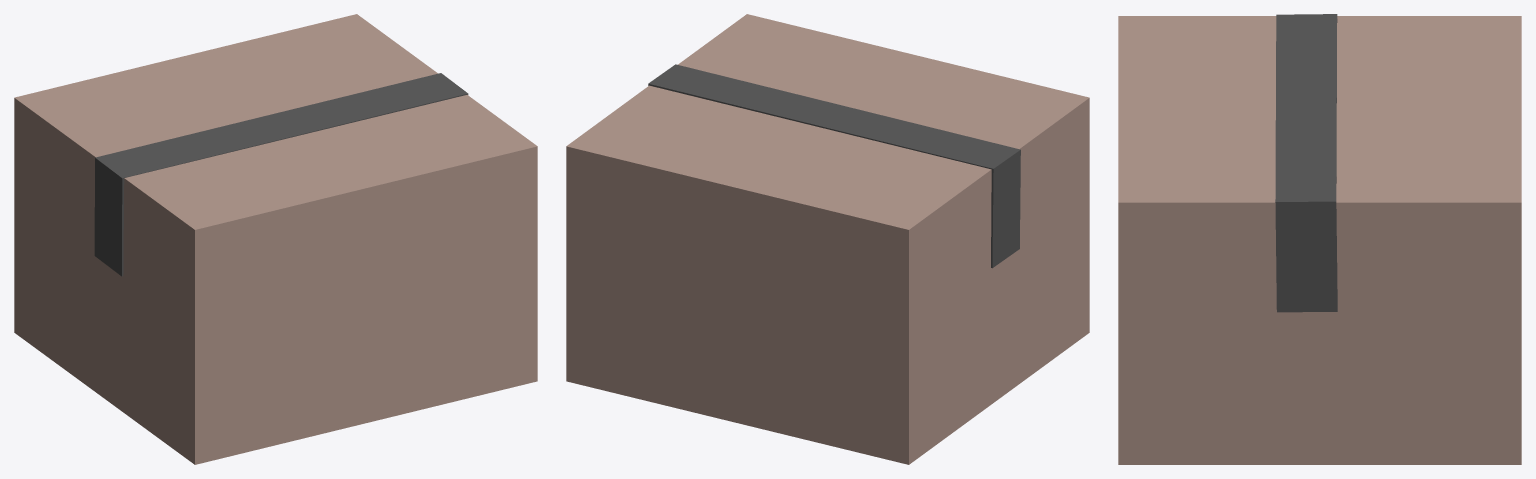
The model's file is box-by-gabriele-romagnoli-ahKiiFpHyB2.glb.
The picture shows the model from 3 angles, left to right: view 1: azimuth 30°, elevation 25°; view 2: azimuth 150°, elevation 25°; view 3: azimuth 270°, elevation 25°; orthographic projection. The views are drawn at different scales.
Visible parts, largest first — view 1: group189322329, group1712932503; view 2: group189322329, group1712932503; view 3: group189322329, group1712932503.
Part boxes in pixels (x1,y1,x2,y2): group189322329: (14,14,537,464); group1712932503: (94,73,468,276); group189322329: (566,14,1089,464); group1712932503: (648,64,1020,268); group189322329: (1118,16,1521,464); group1712932503: (1275,14,1337,312).
Bounding box in the file's own units: 0.5851 × 0.3826 × 0.53.
